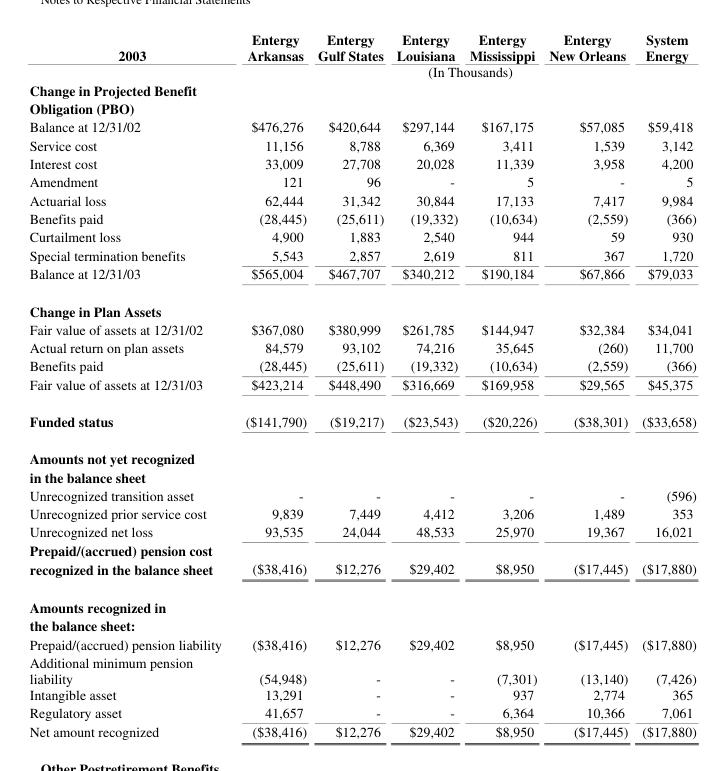table: (28, 29, 695, 739)
table column: (28, 29, 232, 739), (542, 29, 634, 739), (232, 29, 311, 739), (463, 29, 542, 739), (311, 29, 389, 739), (389, 29, 463, 739), (634, 29, 695, 739)
table column header: (28, 29, 695, 80)
table projected row header: (28, 587, 695, 616), (28, 291, 695, 319), (28, 439, 695, 467), (28, 80, 695, 99), (28, 540, 695, 559), (28, 99, 695, 117), (28, 467, 695, 485), (28, 616, 695, 634)
table row: (28, 402, 695, 439), (28, 29, 695, 63), (28, 652, 695, 685), (28, 587, 695, 616), (28, 263, 695, 291), (28, 291, 695, 319), (28, 374, 695, 402), (28, 439, 695, 467), (28, 559, 695, 587), (28, 80, 695, 99), (28, 171, 695, 190), (28, 226, 695, 245), (28, 355, 695, 374), (28, 521, 695, 540), (28, 540, 695, 559), (28, 702, 695, 721), (28, 99, 695, 117), (28, 117, 695, 135), (28, 135, 695, 153), (28, 153, 695, 171), (28, 190, 695, 208), (28, 208, 695, 226), (28, 245, 695, 263), (28, 319, 695, 337), (28, 337, 695, 355), (28, 467, 695, 485), (28, 485, 695, 503), (28, 503, 695, 521), (28, 616, 695, 634), (28, 634, 695, 652), (28, 721, 695, 739), (28, 63, 695, 80), (28, 685, 695, 702)
table spanning cell: (28, 29, 232, 80), (232, 63, 695, 80)
